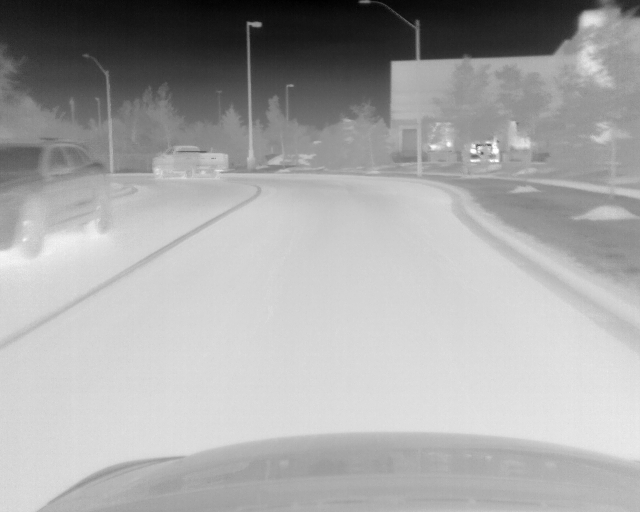car: (1, 140, 113, 256), (151, 144, 229, 179)
